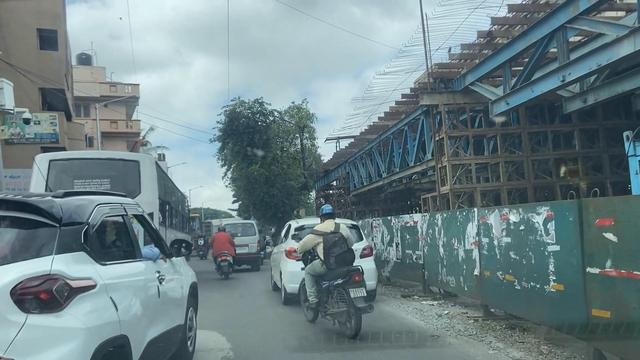LMV: (304, 194, 365, 341), (209, 225, 235, 283)
RoadDamages: (194, 324, 231, 360)
